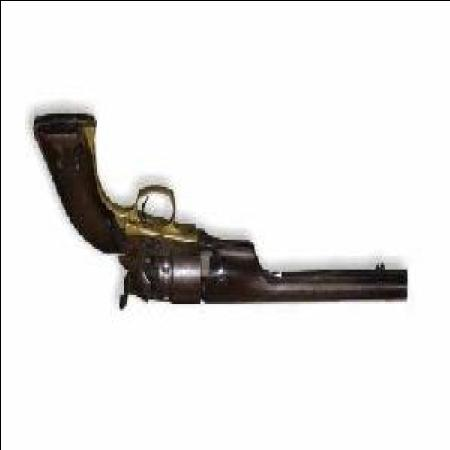Pistol: (29, 112, 405, 317)
